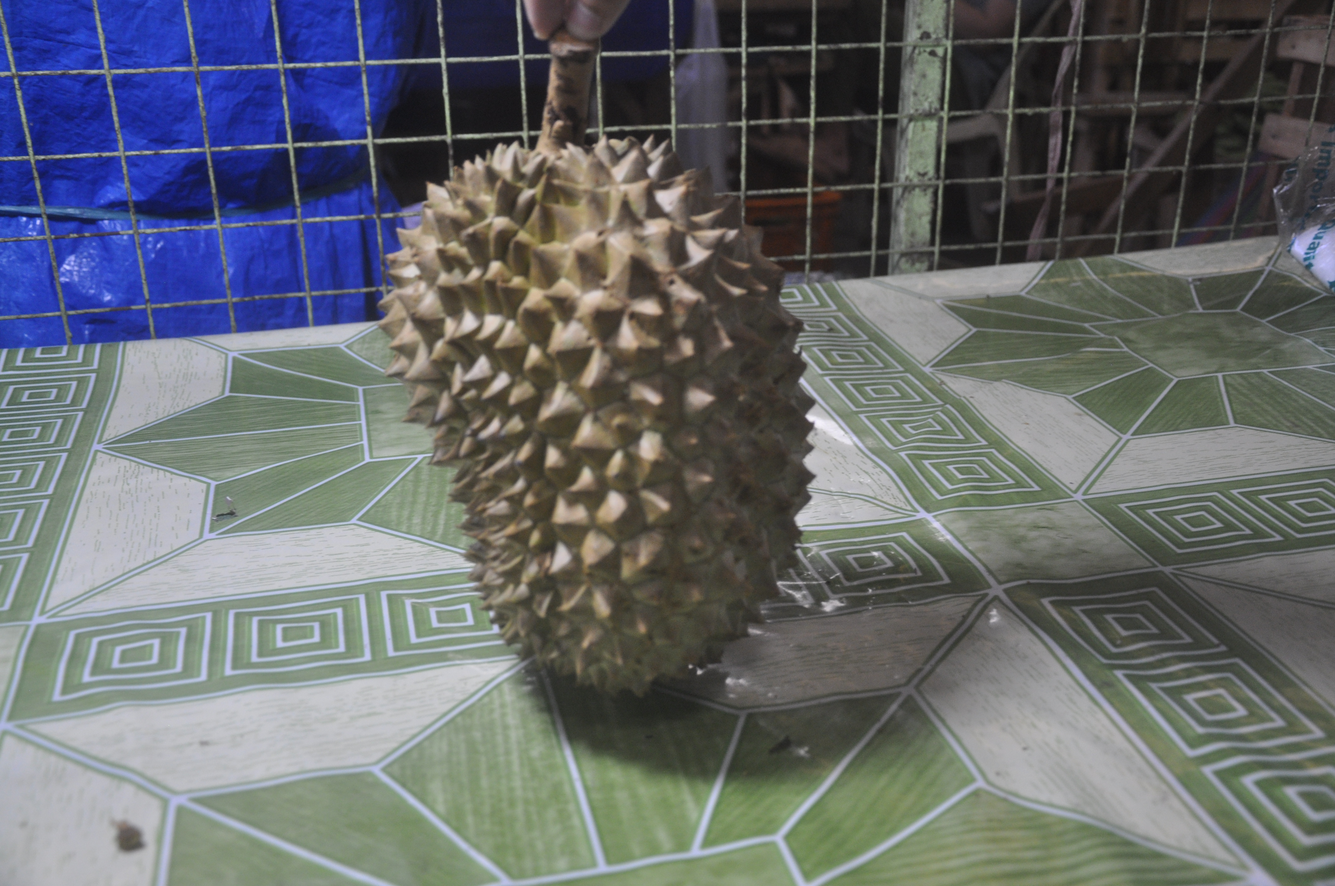mature: (381, 35, 812, 692)
